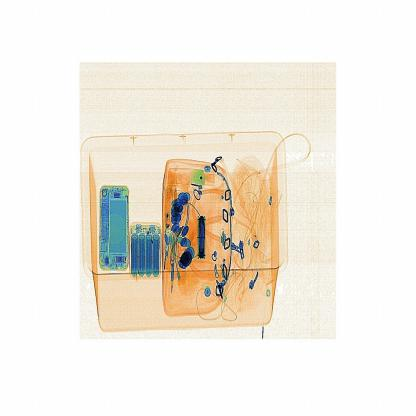scissors: (193, 206, 219, 272)
